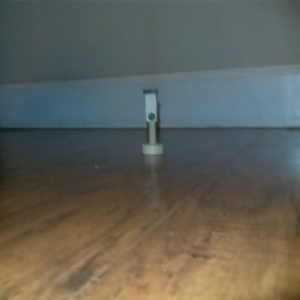traffic light green: (139, 87, 165, 156)
